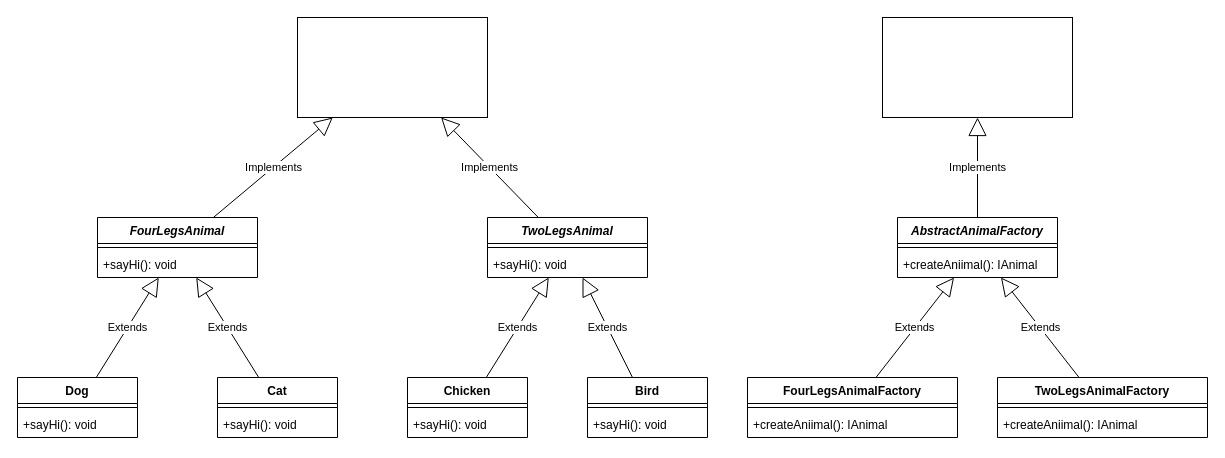
This 1225x458 diagram has some shape labels left out. Each missing label, with the centre of its shape:
<<Interface>> IAnimal +sayHi(): void: the point at 392,67
<<Interface>> IAnimalFactory +createAnimal(): IAnimal: the point at 977,67
